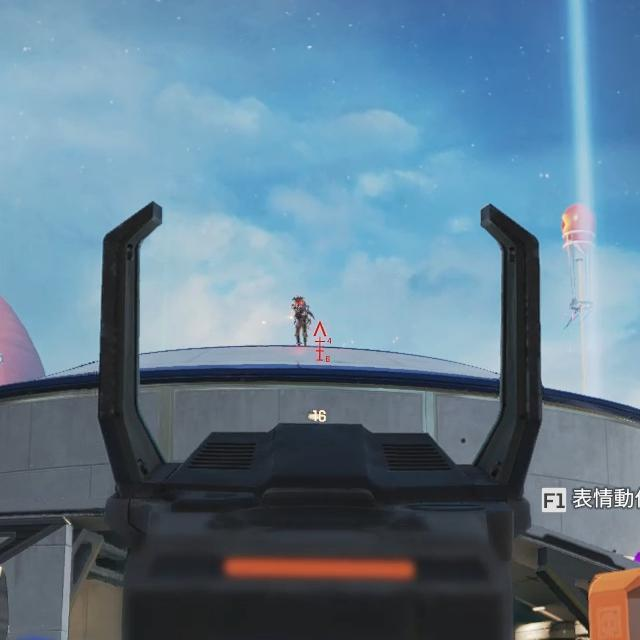avatar: (291, 296, 310, 346)
